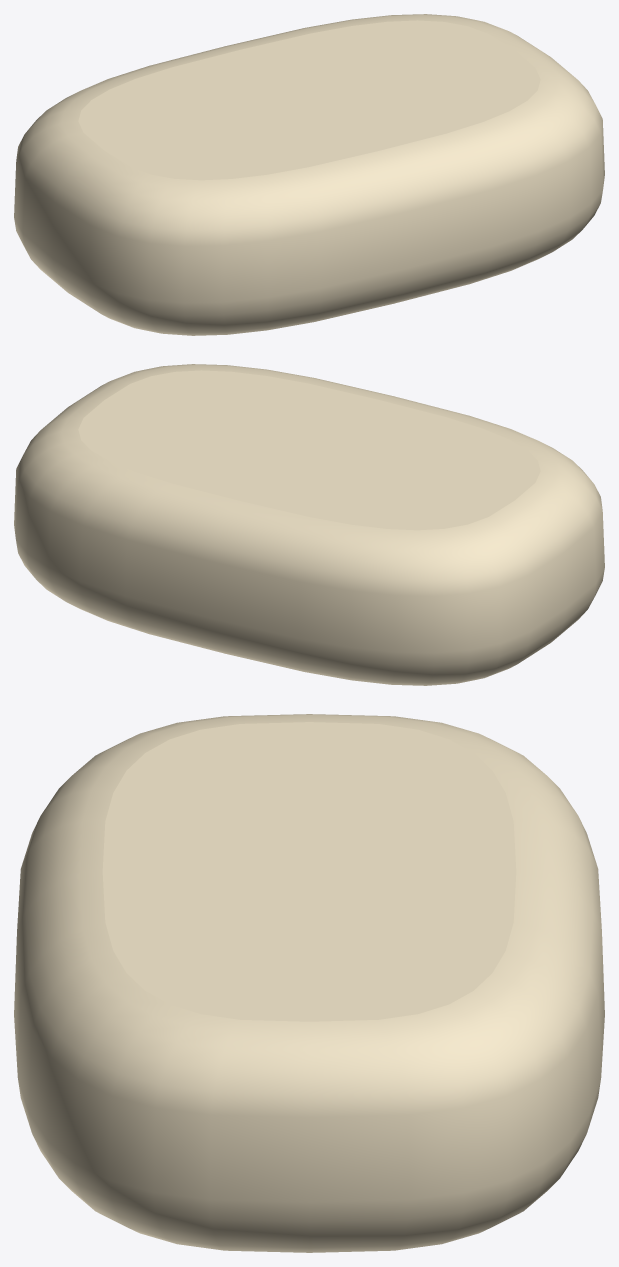
The model's file is sabonete_barra.dae.
3 renders of one model, top to bottom at view 1: azimuth 30°, elevation 25°; view 2: azimuth 150°, elevation 25°; view 3: azimuth 270°, elevation 25°, orthographic. The views are drawn at different scales.
Visible parts, largest first — view 1: Sabonete - barra; view 2: Sabonete - barra; view 3: Sabonete - barra.
Part boxes in pixels (x1,y1,x2,y2): Sabonete - barra: [14, 14, 604, 335]; Sabonete - barra: [14, 364, 604, 685]; Sabonete - barra: [14, 714, 604, 1252].
Size of the model in its own units: 90 by 60 by 25.
